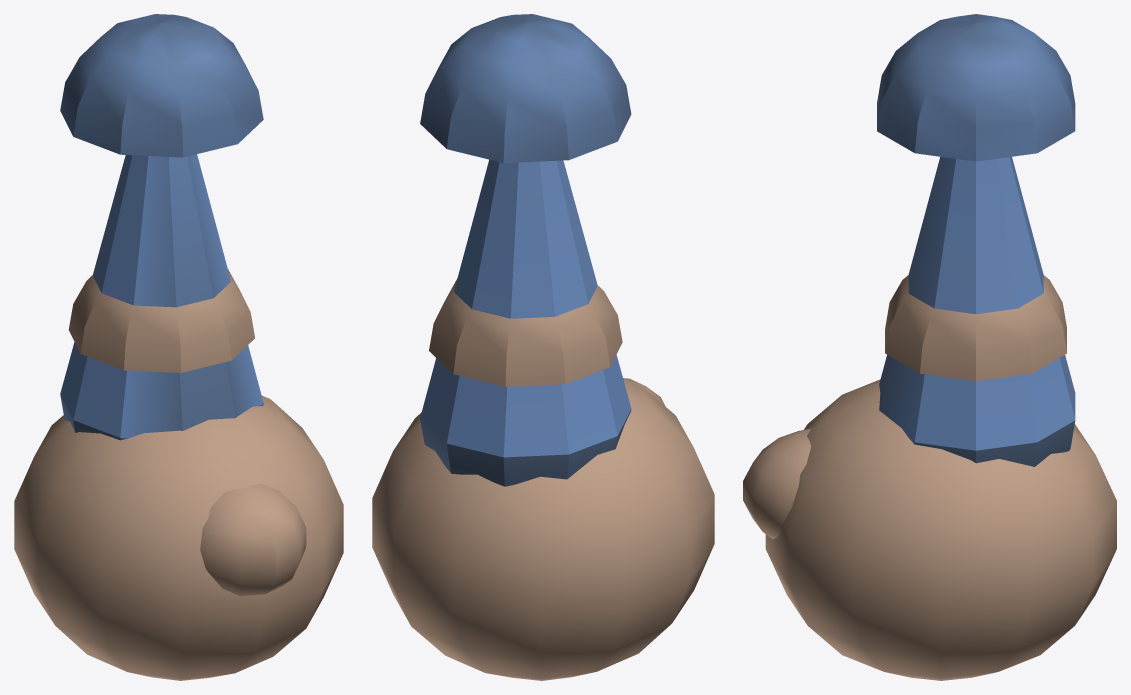
The model's file is p-boy-b--armR.glb.
3 views of the same model, side by side, from view 1: azimuth 30°, elevation 25°; view 2: azimuth 150°, elevation 25°; view 3: azimuth 270°, elevation 25° (orthographic). The views are drawn at different scales.
Visible parts, largest first — view 1: player_p-boy-b--armR; view 2: player_p-boy-b--armR; view 3: player_p-boy-b--armR.
Boxes of the visible parts, x1=… form: player_p-boy-b--armR: x1=14, y1=14, x2=343, y2=680; player_p-boy-b--armR: x1=372, y1=14, x2=714, y2=680; player_p-boy-b--armR: x1=743, y1=14, x2=1116, y2=680.
Bounding box in the file's own units: 0.1142 × 0.2444 × 0.1289.
